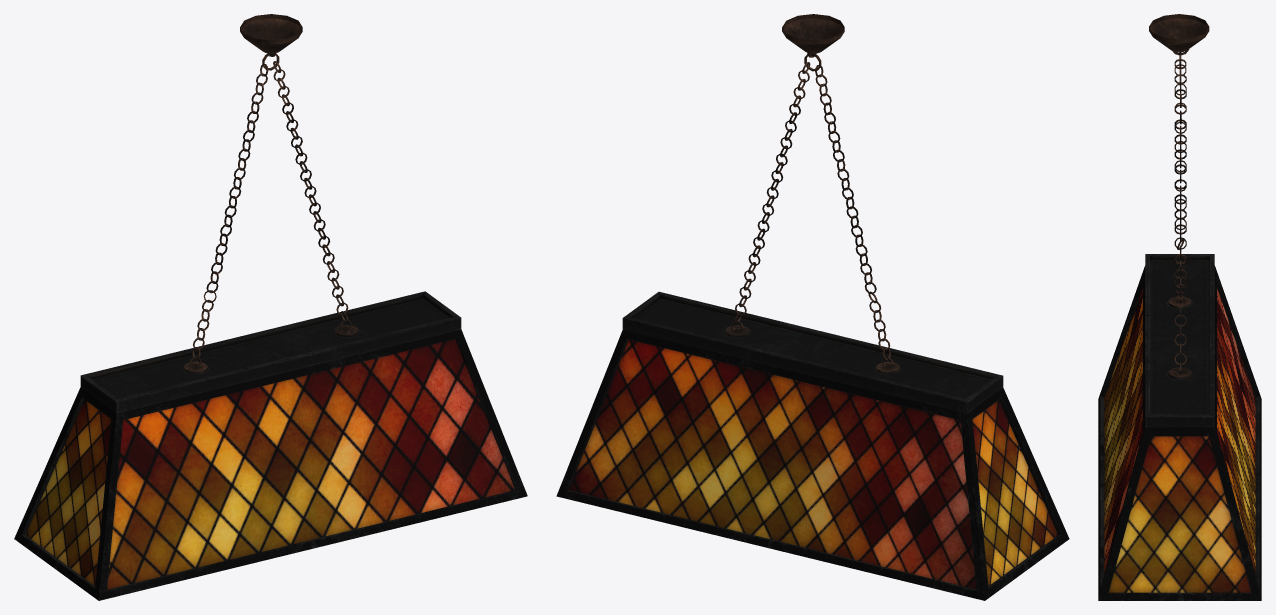
Rendered from game_hall_billard_lamp.fbx.
The picture shows the model from 3 angles, left to right: view 1: azimuth 30°, elevation 25°; view 2: azimuth 150°, elevation 25°; view 3: azimuth 270°, elevation 25°; orthographic projection. The views are drawn at different scales.
Parts seen in each view (by area): view 1: Mesh3 skp6D7D1 Model; view 2: Mesh3 skp6D7D1 Model; view 3: Mesh3 skp6D7D1 Model.
Boxes of the visible parts, x1,y1,x2,y2 form: Mesh3 skp6D7D1 Model: (14, 14, 527, 600); Mesh3 skp6D7D1 Model: (556, 14, 1069, 600); Mesh3 skp6D7D1 Model: (1098, 14, 1261, 600).
Size of the model in its own units: 116 by 126 by 39.5.
Materials: 1 (1 with a texture image).
